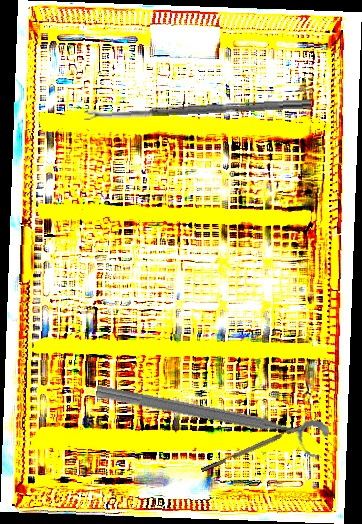Chopper: (198, 412, 322, 473)
Fixation Ring: (91, 378, 331, 462)
Surgical Spoon: (83, 98, 312, 120)
